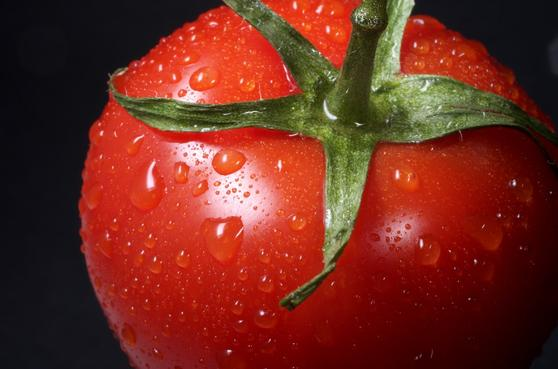tomato: (84, 8, 539, 369)
